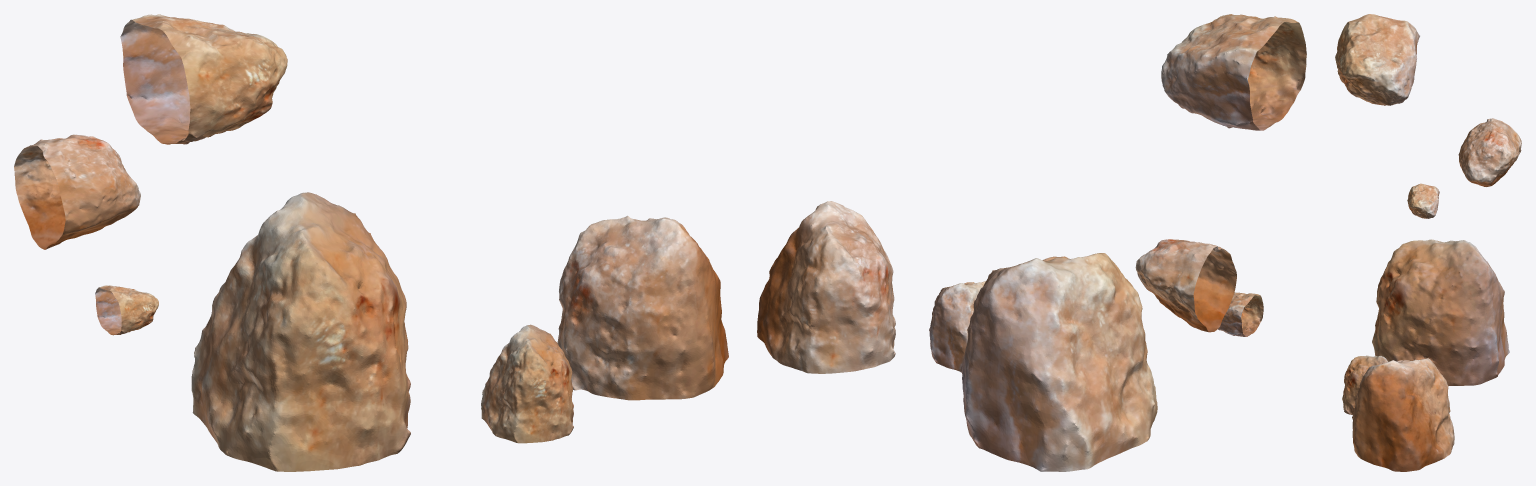
The picture shows the model from 3 angles, left to right: view 1: azimuth 30°, elevation 25°; view 2: azimuth 150°, elevation 25°; view 3: azimuth 270°, elevation 25°; orthographic projection. The views are drawn at different scales.
Parts seen in each view (by area): view 1: SalzStein1, SalzStein2, SalzStein1.002, SalzStein2.001, SalzStein1.001, SalzStein1.003; view 2: SalzStein1, SalzStein2, SalzStein1.002, SalzStein2.001, SalzStein1.001, SalzStein1.003; view 3: SalzStein1, SalzStein2, SalzStein1.002, SalzStein2.001, SalzStein1.001, SalzStein1.003.
Boxes of the visible parts, left/top/right/bottom form: SalzStein1: left=191, top=192, right=410, bottom=471; SalzStein2: left=557, top=215, right=728, bottom=400; SalzStein1.002: left=120, top=14, right=287, bottom=144; SalzStein2.001: left=14, top=134, right=140, bottom=249; SalzStein1.001: left=481, top=324, right=573, bottom=443; SalzStein1.003: left=95, top=285, right=158, bottom=335; SalzStein1: left=960, top=253, right=1157, bottom=471; SalzStein2: left=757, top=201, right=895, bottom=373; SalzStein1.002: left=1161, top=14, right=1306, bottom=130; SalzStein2.001: left=1135, top=239, right=1236, bottom=332; SalzStein1.001: left=929, top=281, right=985, bottom=372; SalzStein1.003: left=1218, top=292, right=1263, bottom=336; SalzStein1: left=1372, top=239, right=1509, bottom=385; SalzStein2: left=1352, top=358, right=1454, bottom=471; SalzStein1.002: left=1335, top=14, right=1419, bottom=105; SalzStein2.001: left=1458, top=118, right=1521, bottom=186; SalzStein1.001: left=1342, top=355, right=1387, bottom=414; SalzStein1.003: left=1407, top=183, right=1439, bottom=218.
Size of the model in its own units: 0.5402 by 0.412 by 0.2409.
Materials: 2 (2 with a texture image).
